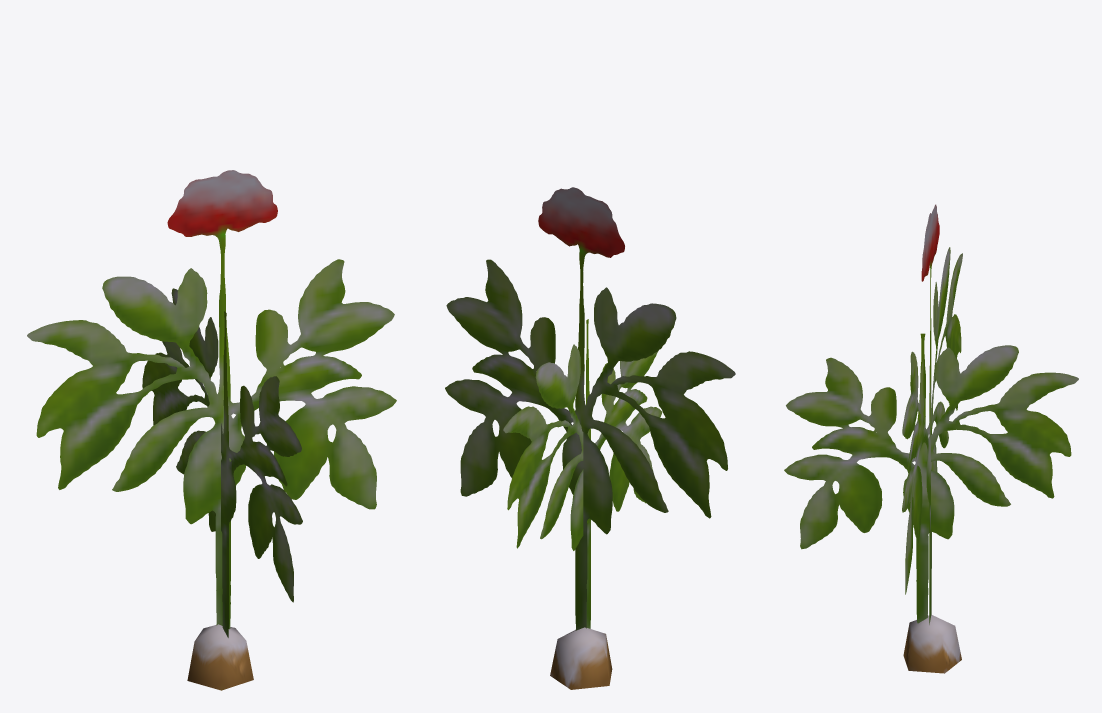
The model's file is million_wildginseng_snow.FBX.
3 renders of one model, left to right at view 1: azimuth 30°, elevation 25°; view 2: azimuth 150°, elevation 25°; view 3: azimuth 270°, elevation 25°, orthographic. The views are drawn at different scales.
Visible parts, largest first — view 1: Object011; view 2: Object011; view 3: Object011.
Part boxes in pixels (left/top/right/bottom): Object011: left=27, top=170, right=396, bottom=690; Object011: left=445, top=187, right=735, bottom=689; Object011: left=784, top=204, right=1078, bottom=673.
Size of the model in its own units: 16.79 by 28.44 by 14.29.
